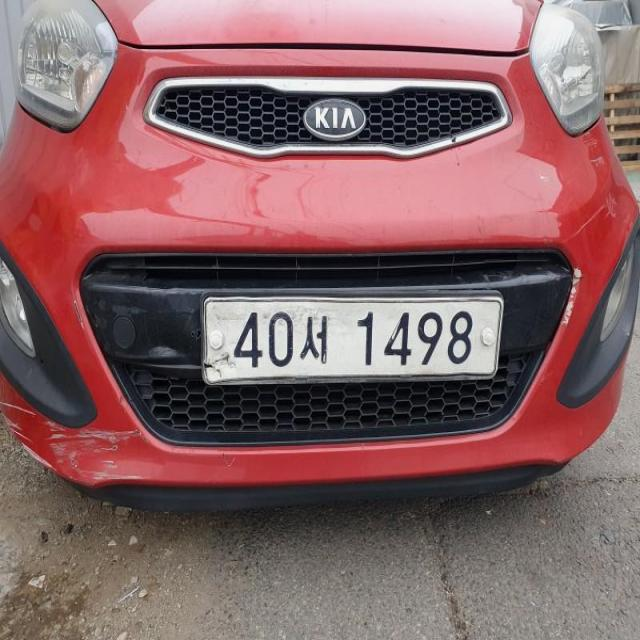illegal_plate: (199, 287, 507, 385)
